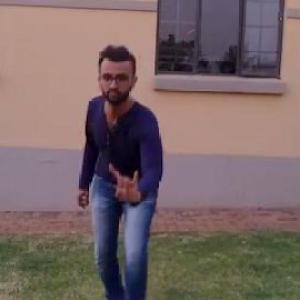takeoff-hand: (108, 157, 144, 211)
